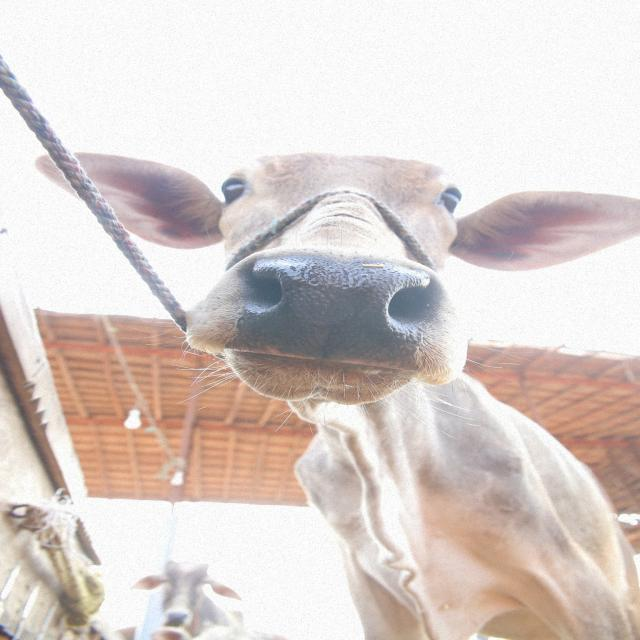muzzles: (232, 247, 447, 376)
